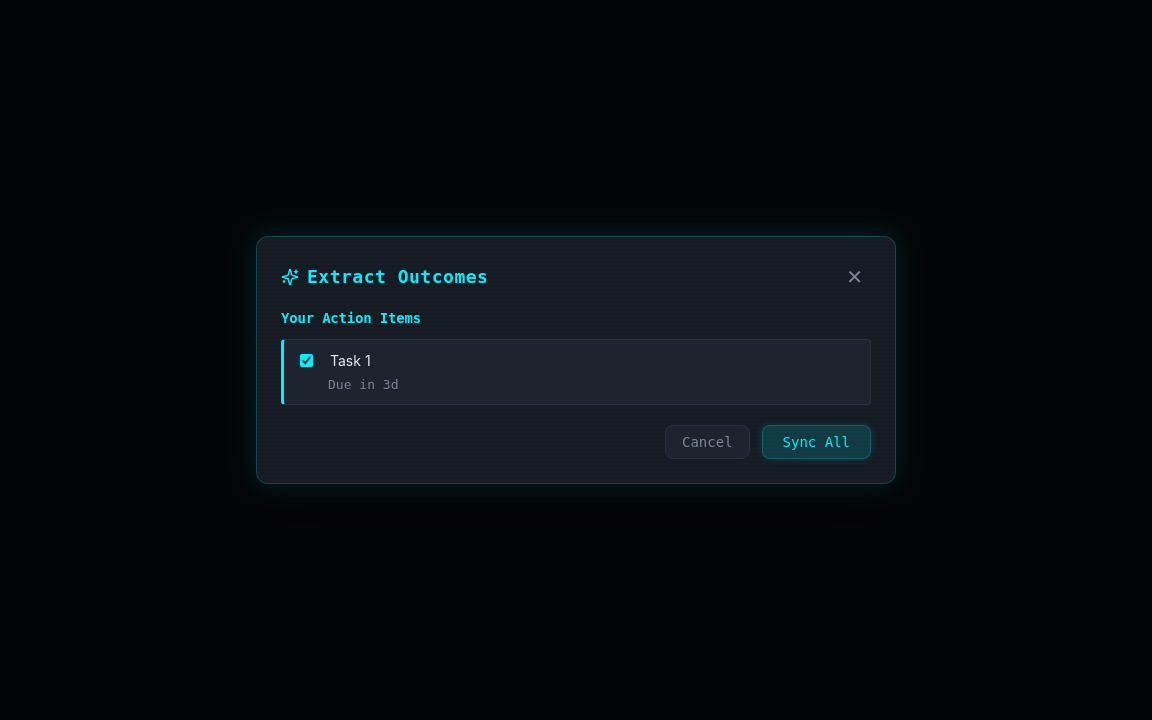
Test: OutcomeExtractionModal › should show error when no items are selected
Expected: the button with test id "apply-outcomes-btn" is shown, [762, 425, 871, 459]
Uncheck the only item
What coordinates should you click on to do the following:
click the checkbox named "Select action item: Task 1"
I would click on:
 (306, 360)
Its box is [300, 354, 313, 367].
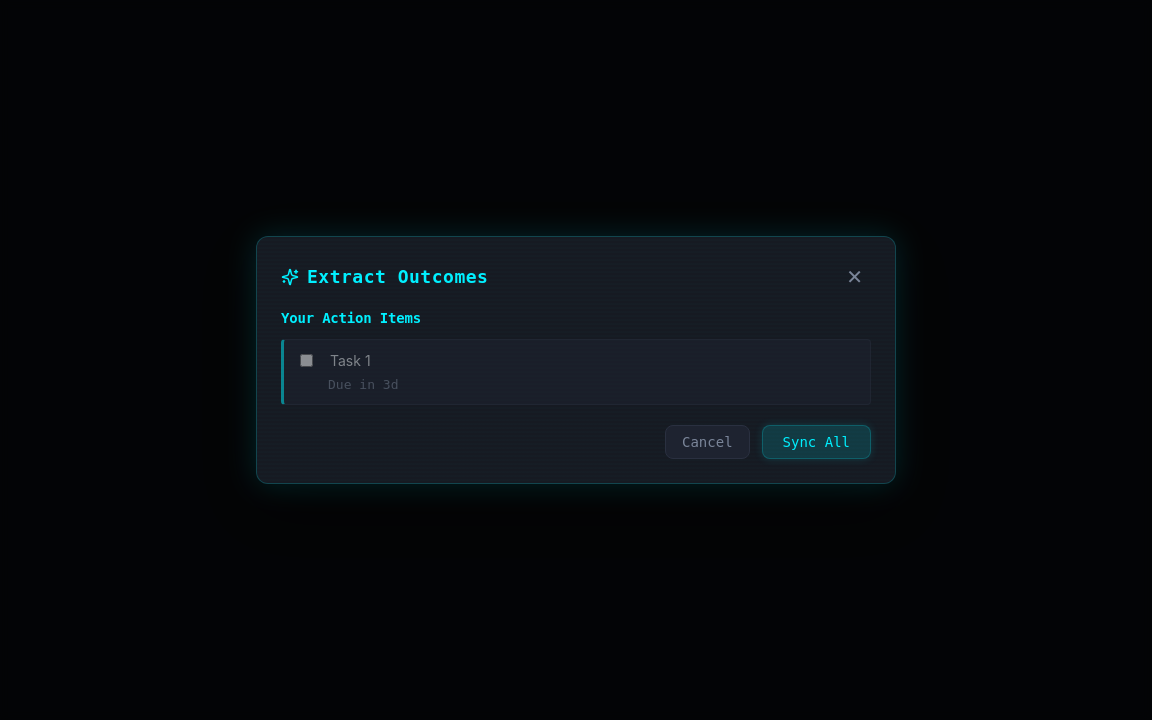
What coordinates should you click on to do the following:
click the button with test id "apply-outcomes-btn"
I would click on:
 (816, 442)
Its box is [762, 425, 871, 459].
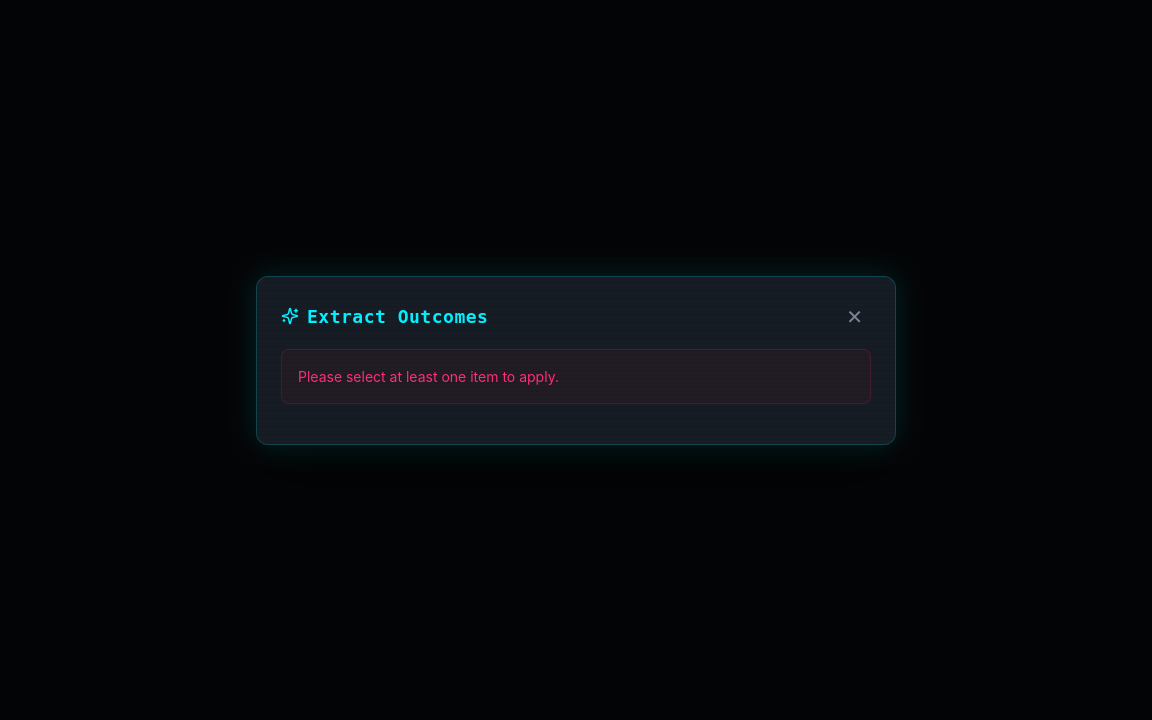
Expected: the text "Please select at least one item to apply." is shown, [281, 348, 871, 404]
